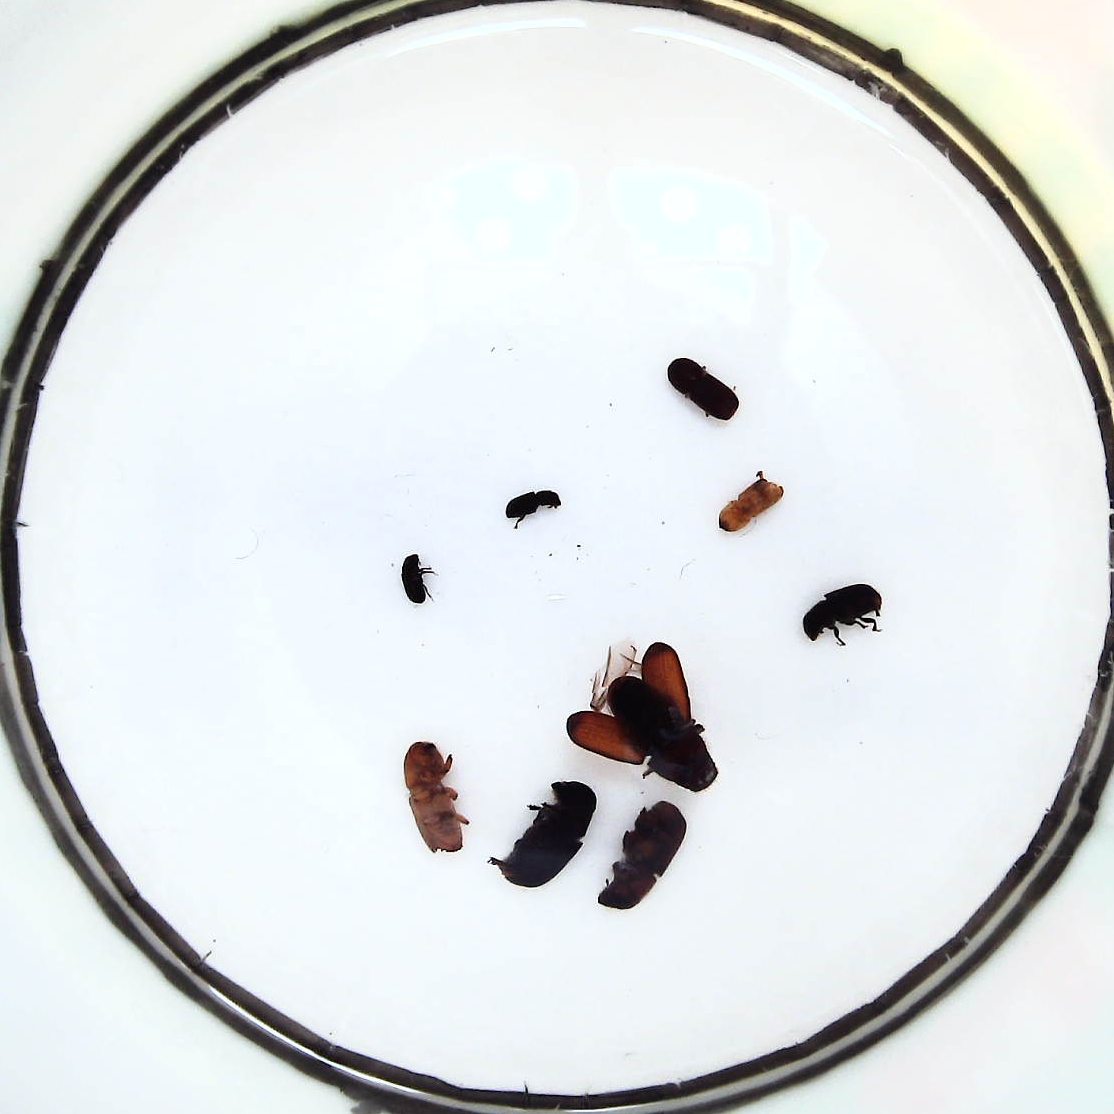Boerner: (405, 741, 469, 854)
Leconte: (567, 643, 719, 793), (502, 780, 598, 887), (598, 799, 686, 910)
acuminatus: (506, 489, 561, 520), (402, 554, 428, 604)
armandi: (803, 584, 882, 640)
coleoptera: (719, 479, 784, 531)
linnaeus: (667, 357, 739, 420)
